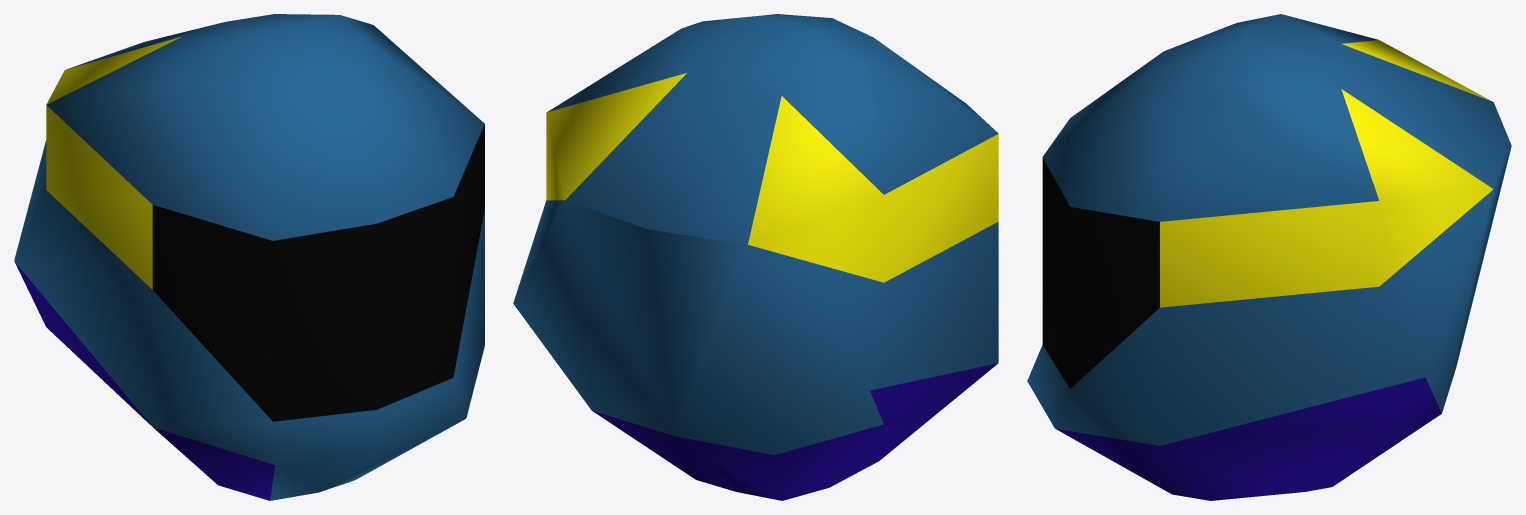
The model's file is LuggerSportHelmet.fbx.
The picture shows the model from 3 angles, left to right: view 1: azimuth 30°, elevation 25°; view 2: azimuth 150°, elevation 25°; view 3: azimuth 270°, elevation 25°; orthographic projection. The views are drawn at different scales.
Visible parts, largest first — view 1: LuggerSportHelmet; view 2: LuggerSportHelmet; view 3: LuggerSportHelmet.
Boxes of the visible parts, x1,y1,x2,y2 form: LuggerSportHelmet: (14,14,484,500); LuggerSportHelmet: (513,14,998,500); LuggerSportHelmet: (1027,14,1511,500).
Bounding box in the file's own units: 14.5 × 17.23 × 17.47.
1 material, 1 textured.
